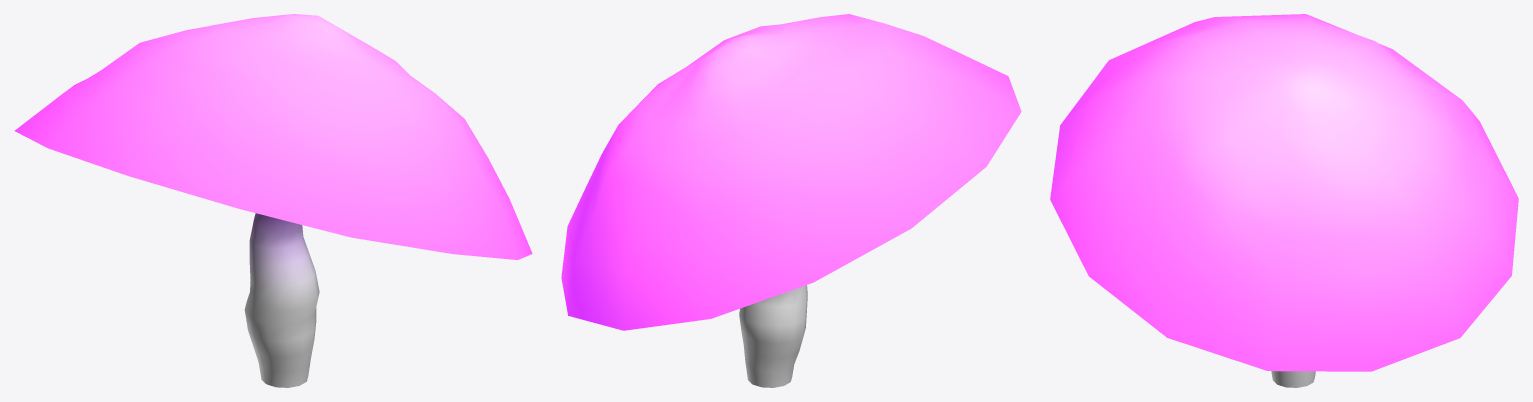
File: mushroom_4.glb
3 renders of one model, left to right at view 1: azimuth 30°, elevation 25°; view 2: azimuth 150°, elevation 25°; view 3: azimuth 270°, elevation 25°, orthographic. The views are drawn at different scales.
Parts seen in each view (by area): view 1: geo1; view 2: geo1; view 3: geo1.
Boxes of the visible parts, x1=… form: geo1: x1=14, y1=14, x2=532, y2=387; geo1: x1=561, y1=14, x2=1021, y2=387; geo1: x1=1050, y1=14, x2=1518, y2=387.
Size of the model in its own units: 0.3655 by 0.287 by 0.3846.
